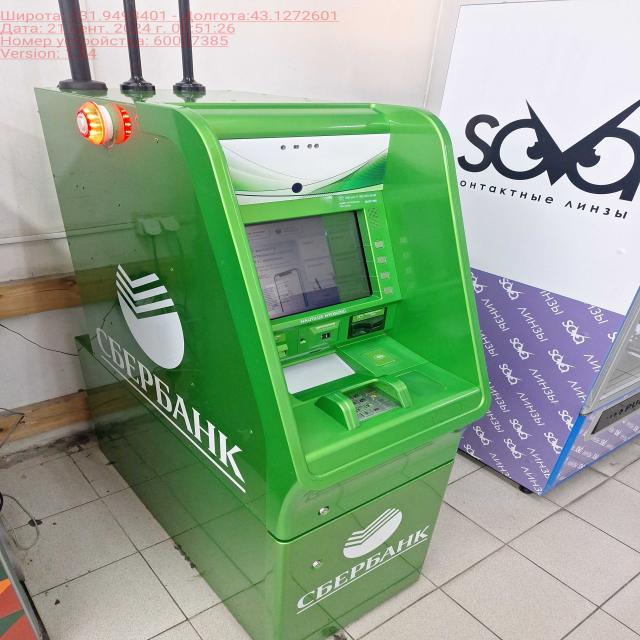bank: (31, 77, 492, 640)
